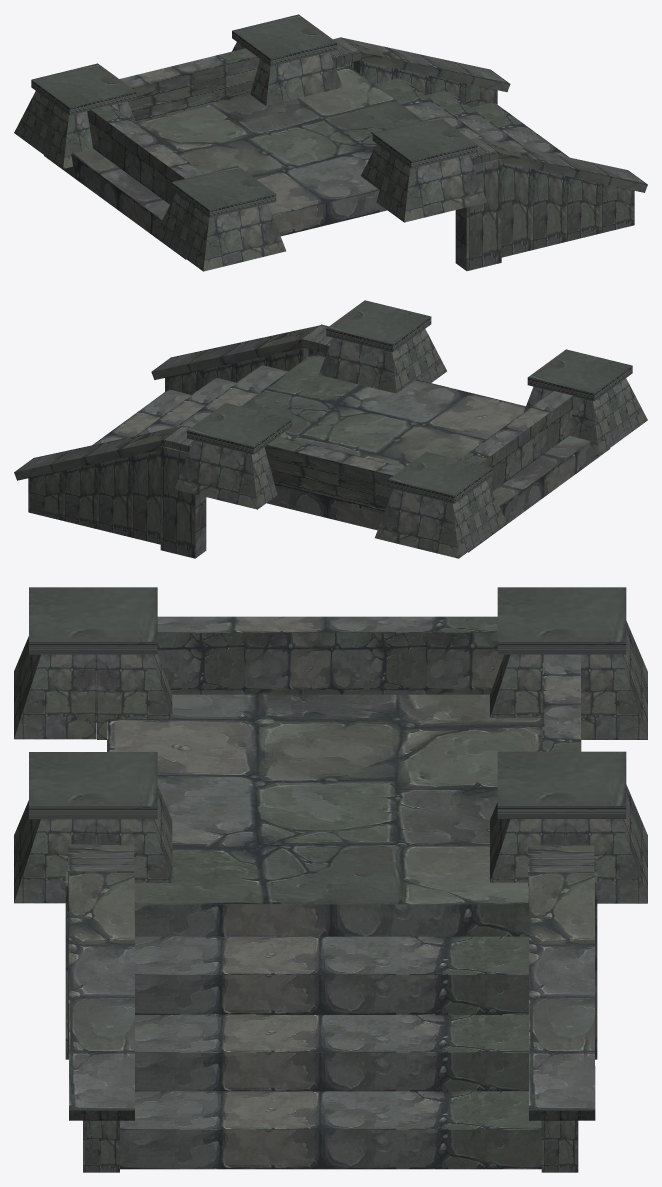
Rendered from Staircurf left.fbx.
The picture shows the model from 3 angles, top to bottom: view 1: azimuth 30°, elevation 25°; view 2: azimuth 150°, elevation 25°; view 3: azimuth 270°, elevation 25°; orthographic projection. The views are drawn at different scales.
Visible parts, largest first — view 1: Cube.1297; view 2: Cube.1297; view 3: Cube.1297.
Part boxes in pixels (bbox=[...]): Cube.1297: bbox=[14, 14, 647, 271]; Cube.1297: bbox=[14, 300, 647, 558]; Cube.1297: bbox=[14, 587, 647, 1172].
Bounding box in the file's own units: 6.57 × 1.83 × 4.67.
Materials: 4 (4 with a texture image).
